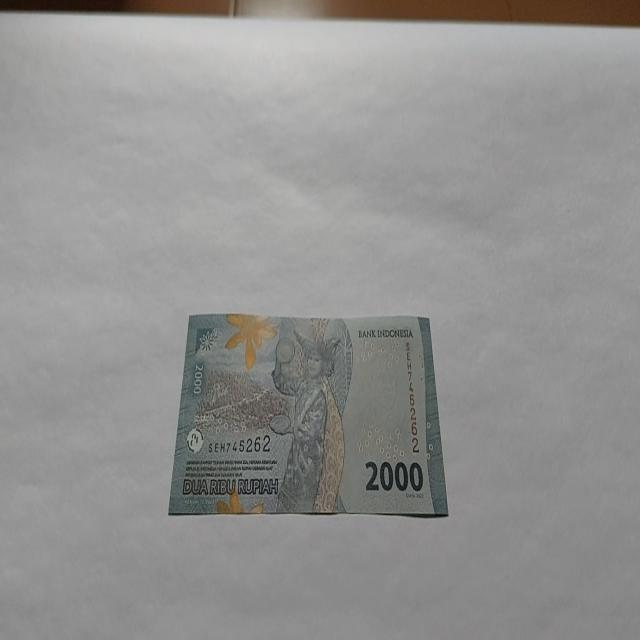dua ribu rupiah: (168, 311, 448, 517), (268, 324, 348, 514)
